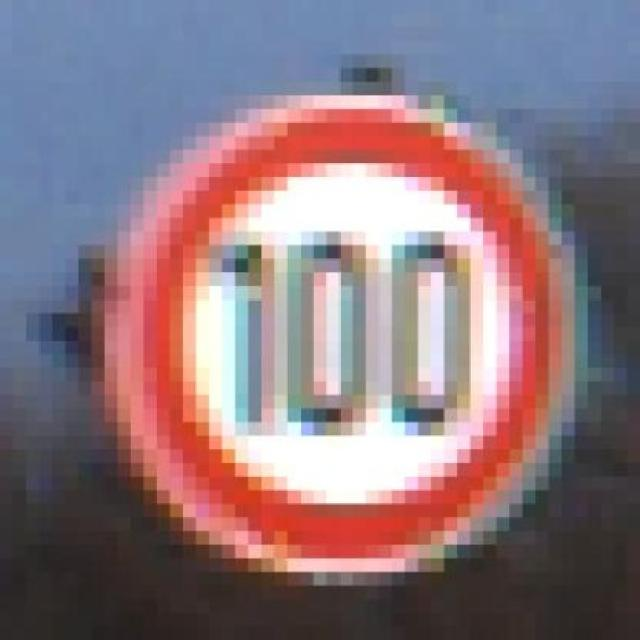forb_speed_over_100: (125, 97, 569, 563)
